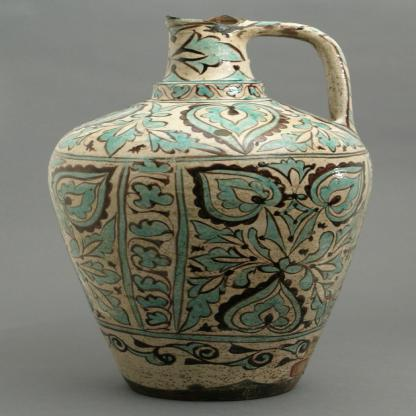vase: (45, 13, 376, 401)
